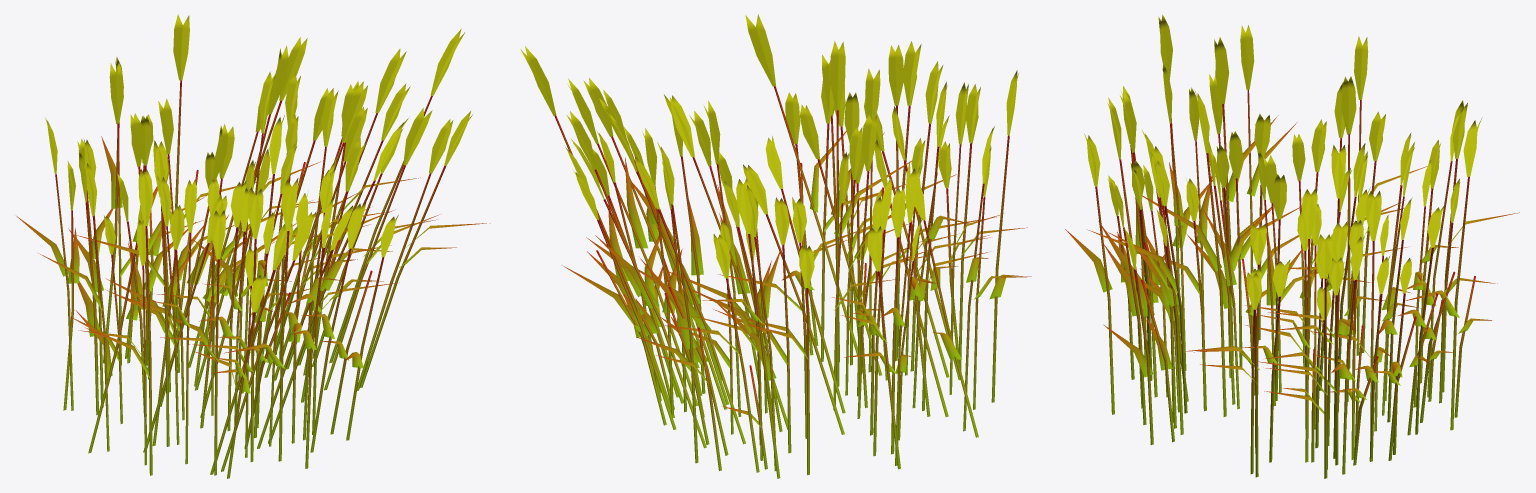
The model's file is posidonia.glb.
3 views of the same model, side by side, from view 1: azimuth 30°, elevation 25°; view 2: azimuth 150°, elevation 25°; view 3: azimuth 270°, elevation 25° (orthographic). The views are drawn at different scales.
Parts seen in each view (by area): view 1: v1, v0, v2, v3; view 2: v0, v1, v3, v2; view 3: v0, v1, v2, v3.
Part boxes in pixels (<box>): v1: <box>76,29,490,474</box>; v0: <box>68,14,370,475</box>; v2: <box>16,62,320,465</box>; v3: <box>63,56,399,478</box>; v0: <box>640,41,1027,475</box>; v1: <box>520,14,990,448</box>; v3: <box>586,83,989,478</box>; v2: <box>667,68,1031,470</box>; v0: <box>1065,14,1482,462</box>; v1: <box>1106,113,1444,478</box>; v2: <box>1140,25,1465,431</box>; v3: <box>1103,100,1519,474</box>.
Bounding box in the file's own units: 13.54 × 9.38 × 11.71.
